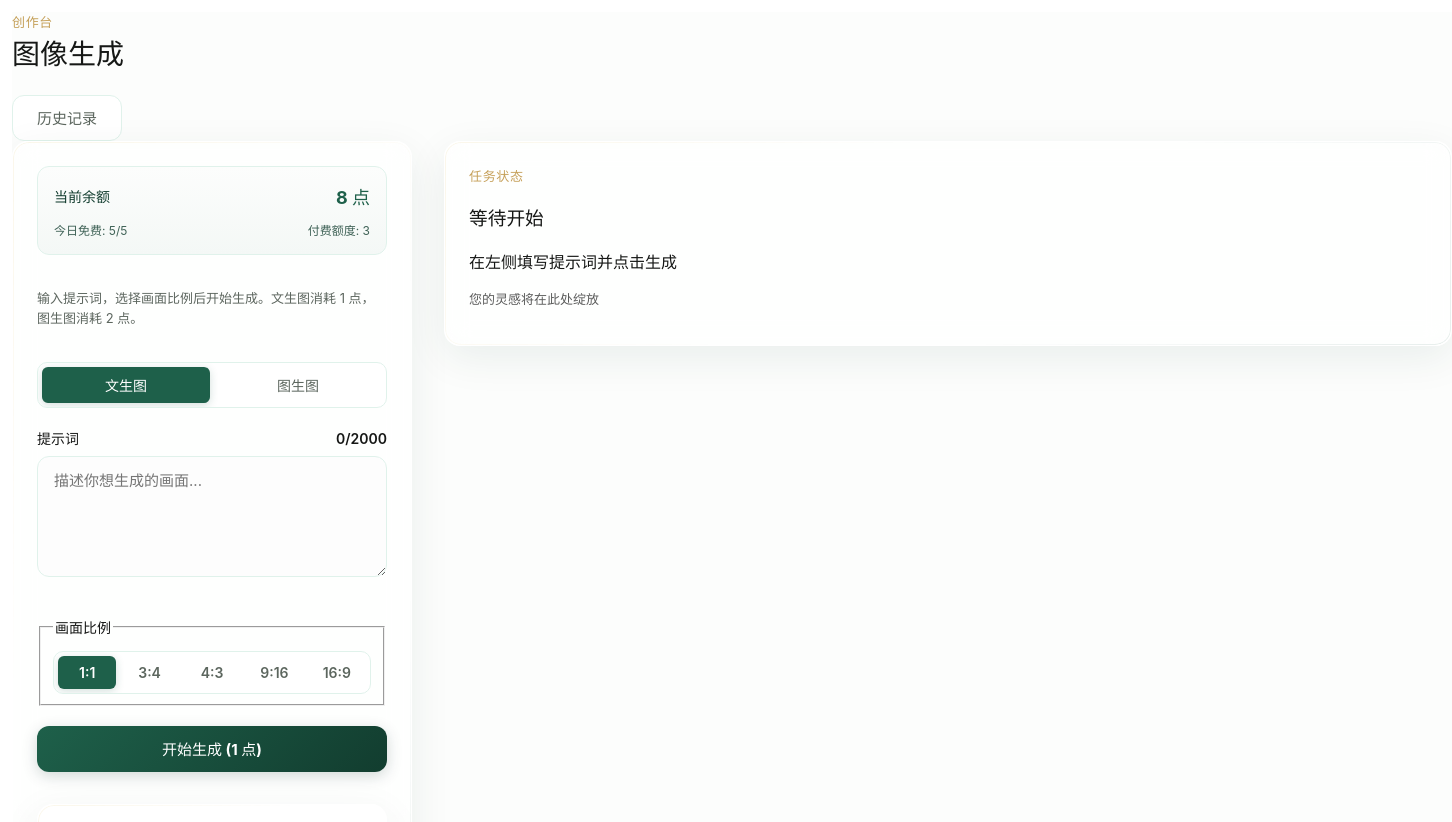
Test case: WorkspacePage › does not offer cancellation after generation starts upstream
Type "已经开始的提示词" into the text box labelled "提示词" at [212, 517], box top-left (37, 456), bottom-right (387, 577)
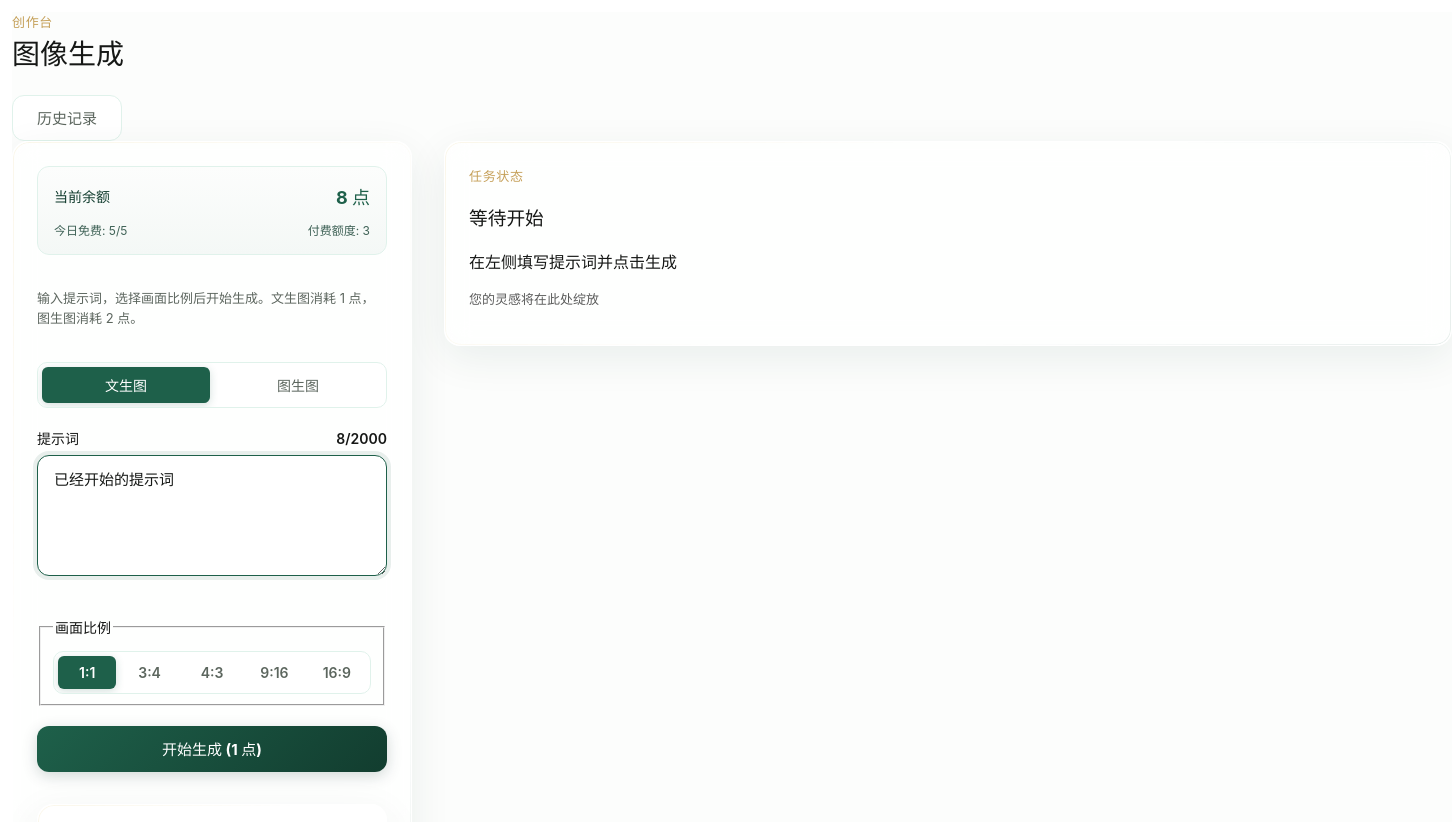
Click the button "开始生成 (1 点)" at [212, 749], box top-left (37, 726), bottom-right (387, 772)
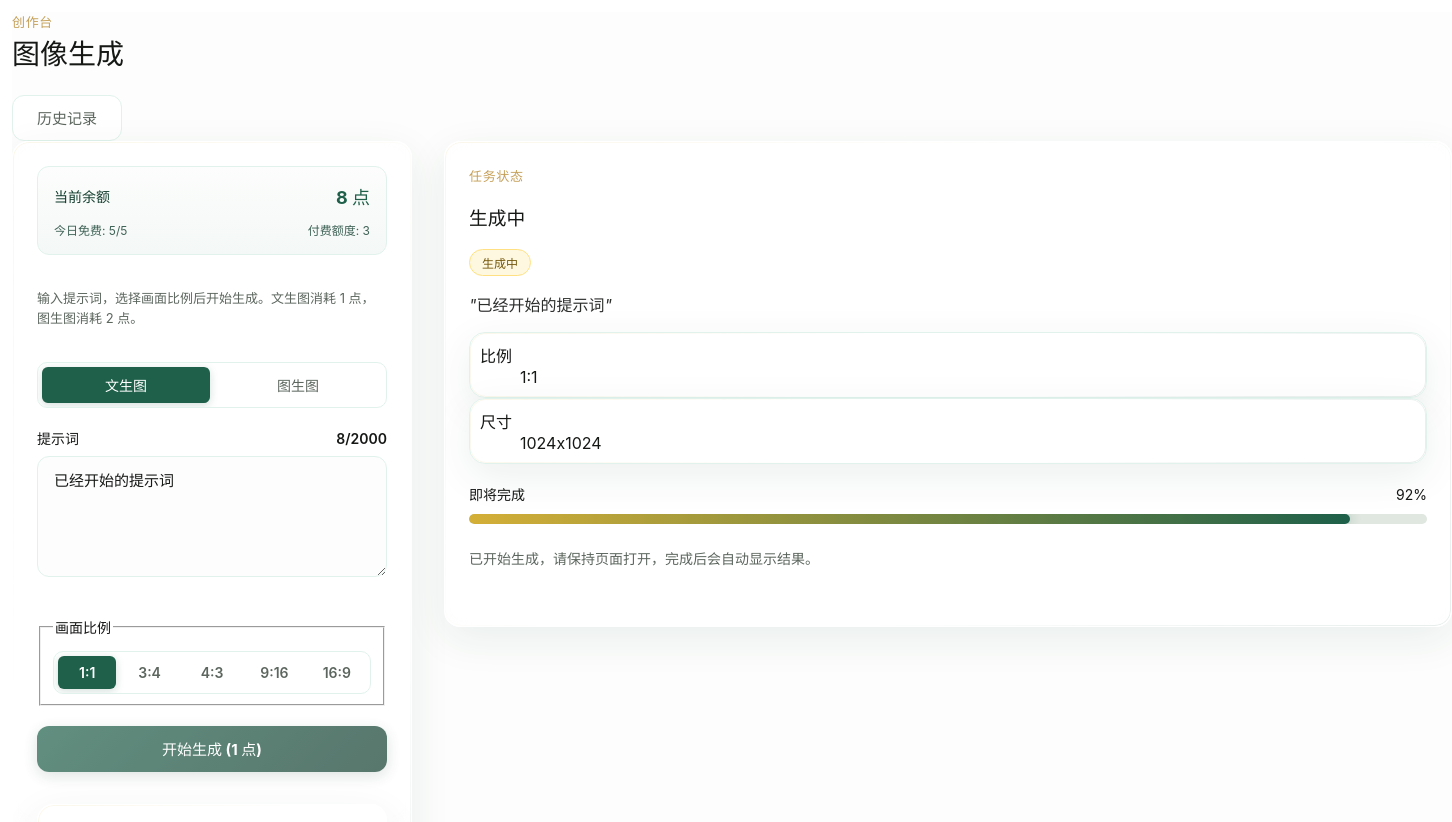
Expected: the text "已开始生成，请保持页面打开，完成后会自动显示结果。" is shown, top-left (469, 550), bottom-right (819, 567)
